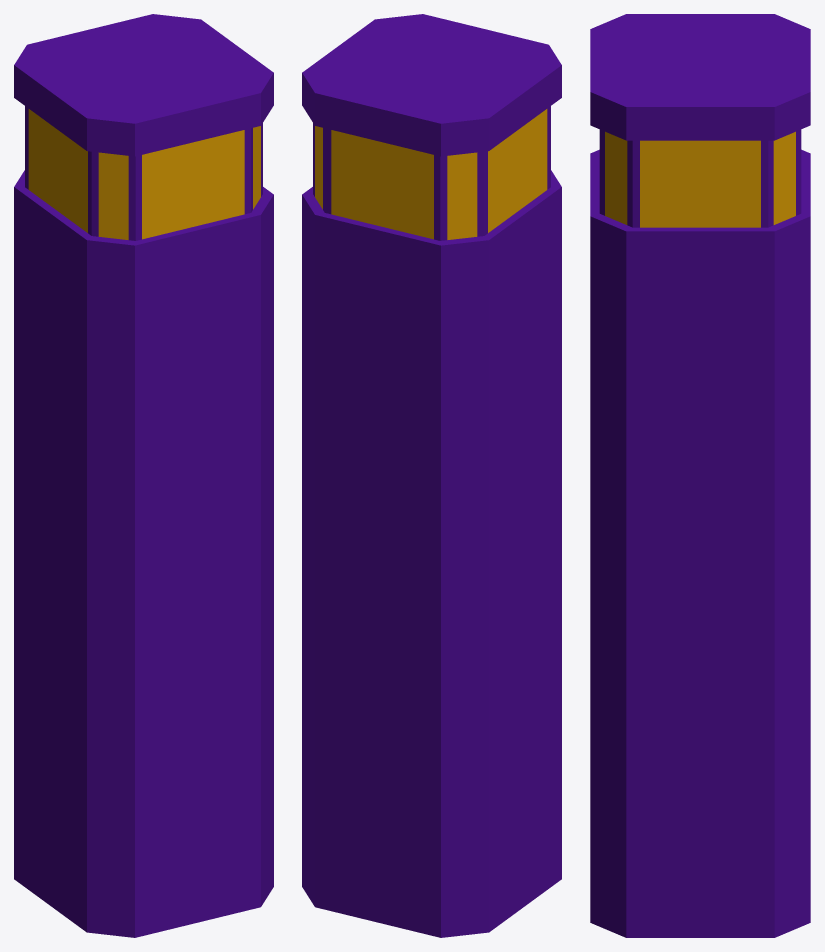
File: sundaiAKARI.fbx
3 views of the same model, side by side, from view 1: azimuth 30°, elevation 25°; view 2: azimuth 150°, elevation 25°; view 3: azimuth 270°, elevation 25° (orthographic). The views are drawn at different scales.
Parts seen in each view (by area): view 1: 立方体.016, 立方体.022, 立方体.023; view 2: 立方体.016, 立方体.022, 立方体.023; view 3: 立方体.016, 立方体.022, 立方体.023.
Part boxes in pixels (x1,y1,x2,y2): 立方体.016: (14,170,273,937); 立方体.022: (14,14,273,156); 立方体.023: (25,106,262,240); 立方体.016: (302,170,561,937); 立方体.022: (302,14,561,156); 立方体.023: (313,106,550,240); 立方体.016: (590,149,810,937); 立方体.022: (590,14,810,140); 立方体.023: (599,129,801,227).
Bounding box in the file's own units: 47.78 × 199 × 47.78.
